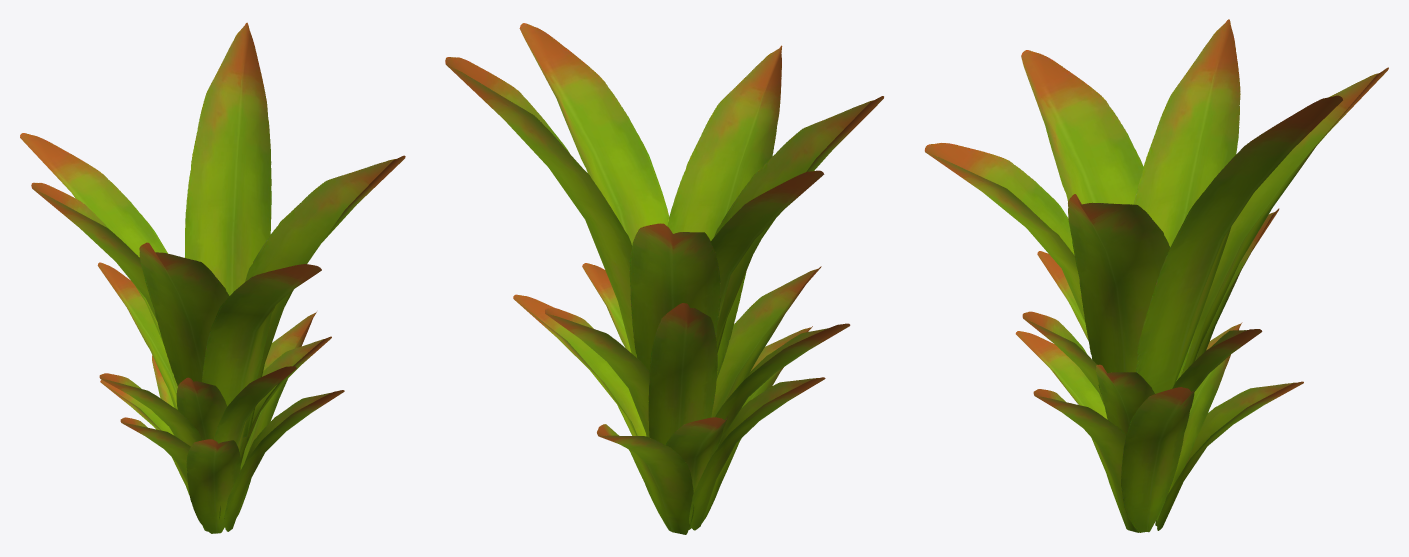
Rendered from Plant_1_Big.gltf.
The picture shows the model from 3 angles, left to right: view 1: azimuth 30°, elevation 25°; view 2: azimuth 150°, elevation 25°; view 3: azimuth 270°, elevation 25°; orthographic projection. The views are drawn at different scales.
Visible parts, largest first — view 1: Plant_1_Big; view 2: Plant_1_Big; view 3: Plant_1_Big.
Boxes of the visible parts, bbox=[...] form: Plant_1_Big: bbox=[20, 22, 405, 533]; Plant_1_Big: bbox=[445, 23, 883, 534]; Plant_1_Big: bbox=[924, 19, 1388, 532].
Size of the model in its own units: 1.81 by 2.35 by 1.95.
Materials: 1 (1 with a texture image).
